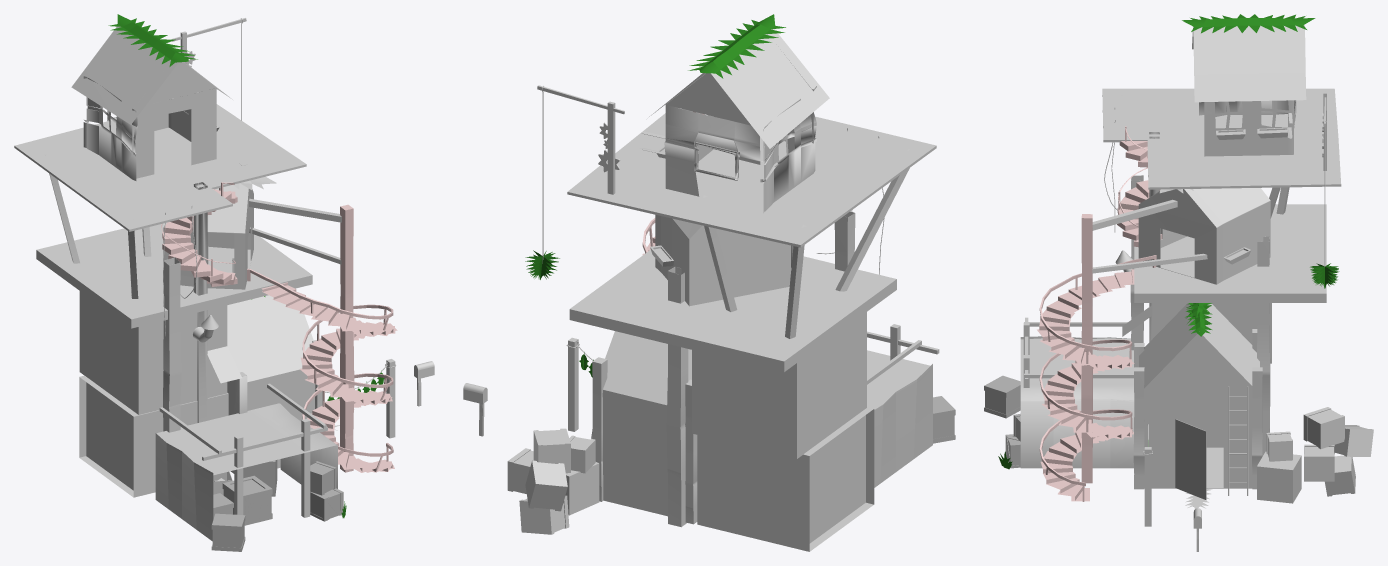
File: PAPER_HOUSE.glb
The picture shows the model from 3 angles, left to right: view 1: azimuth 30°, elevation 25°; view 2: azimuth 150°, elevation 25°; view 3: azimuth 270°, elevation 25°; orthographic projection. The views are drawn at different scales.
Visible parts, largest first — view 1: pPlane32, polySurface375, pPlane45, polySurface78, pCube83, polySurface166, pCube35, polySurface255, polySurface256, polySurface288, polySurface211, polySurface81 (+12 smaller); view 2: pPlane32, pPlane45, pCube35, pCube83, polySurface166, polySurface255, polySurface288, polySurface256, polySurface78, polySurface226, polySurface368, polySurface62 (+11 smaller); view 3: polySurface166, pPlane32, polySurface375, pPlane45, polySurface288, polySurface256, polySurface78, polySurface226, polySurface255, polySurface62, pCube83, polySurface368 (+9 smaller).
Boxes of the visible parts, x1,y1,x2,y2 form: pPlane32: (14,104,306,231); polySurface375: (161,182,397,472); pPlane45: (36,223,312,328); polySurface78: (155,403,337,541); pCube83: (79,291,241,414); polySurface166: (227,295,324,473); pCube35: (79,375,228,497); polySurface255: (83,76,216,180); polySurface256: (71,26,232,124); polySurface288: (163,183,253,289); polySurface211: (159,383,327,517); polySurface81: (163,257,181,432); pPlane32: (567,113,936,247); pPlane45: (569,250,896,372); pCube35: (697,407,874,551); pCube83: (692,312,866,458); polySurface166: (592,331,697,524); polySurface255: (639,73,816,212); polySurface288: (655,214,790,306); polySurface256: (649,29,829,148); polySurface78: (867,350,932,487); polySurface226: (507,428,570,534); polySurface368: (666,266,688,527); polySurface62: (565,435,599,515); polySurface166: (1133,303,1262,500); pPlane32: (1102,88,1341,189); polySurface375: (1037,126,1162,501); pPlane45: (1134,204,1326,302); polySurface288: (1138,188,1270,284); polySurface256: (1192,24,1306,102); polySurface78: (1020,336,1134,468); polySurface226: (1303,407,1373,496); polySurface255: (1199,100,1296,156); polySurface62: (1257,431,1301,503); pCube83: (1122,303,1271,363); polySurface368: (1257,236,1270,455).
Size of the model in its own units: 0.1474 by 0.1651 by 0.1403.
